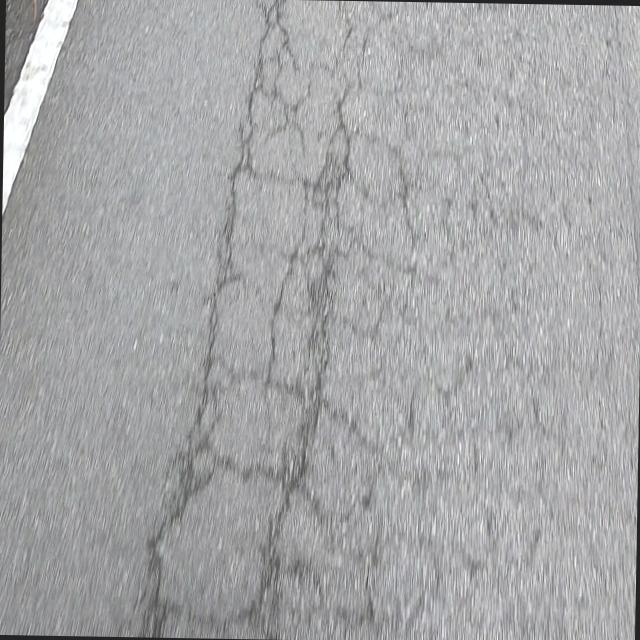Retak-Buaya: (151, 0, 413, 640)
